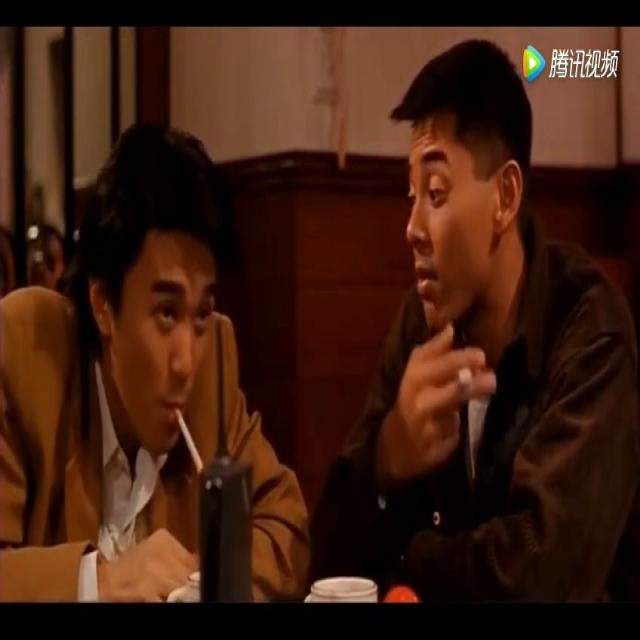smoking: (173, 405, 204, 472), (456, 362, 474, 387)
